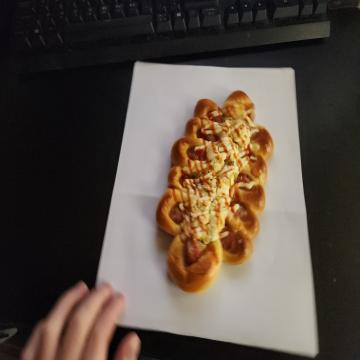pizza_bread: (157, 88, 275, 298)
